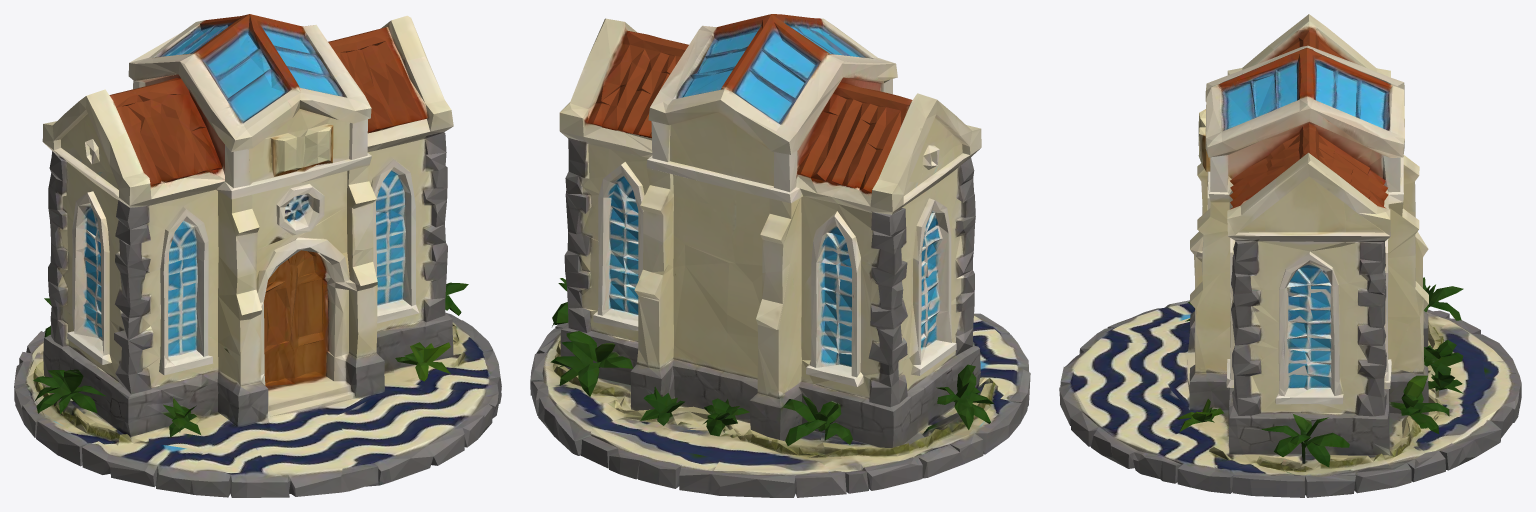
The model's file is rio-igreja.glb.
The picture shows the model from 3 angles, left to right: view 1: azimuth 30°, elevation 25°; view 2: azimuth 150°, elevation 25°; view 3: azimuth 270°, elevation 25°; orthographic projection. The views are drawn at different scales.
Parts seen in each view (by area): view 1: tripo_node_624b0bb4-4992-4b90-9b9f-eadfe43df4d9; view 2: tripo_node_624b0bb4-4992-4b90-9b9f-eadfe43df4d9; view 3: tripo_node_624b0bb4-4992-4b90-9b9f-eadfe43df4d9.
Part boxes in pixels (bbox=[...]): tripo_node_624b0bb4-4992-4b90-9b9f-eadfe43df4d9: bbox=[14, 14, 501, 497]; tripo_node_624b0bb4-4992-4b90-9b9f-eadfe43df4d9: bbox=[530, 14, 1030, 497]; tripo_node_624b0bb4-4992-4b90-9b9f-eadfe43df4d9: bbox=[1059, 14, 1521, 497].
Bounding box in the file's own units: 0.9964 × 0.8435 × 0.9945.
Materials: 1 (1 with a texture image).
